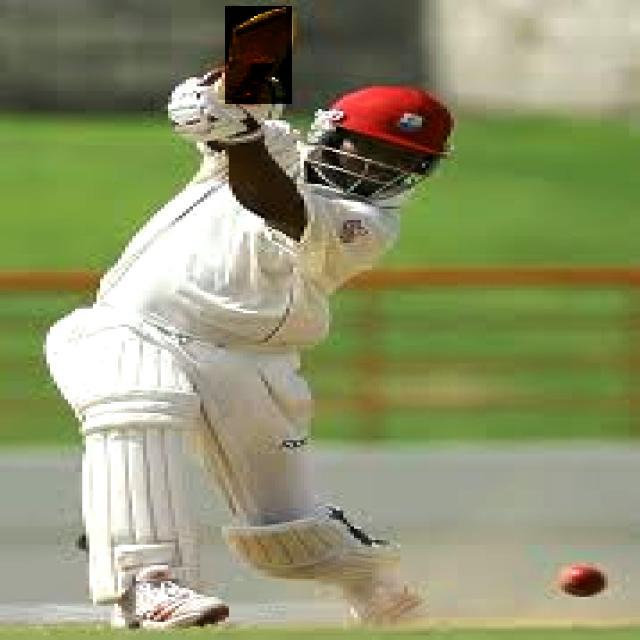bat: (225, 6, 292, 104)
toe: (241, 11, 276, 30)
